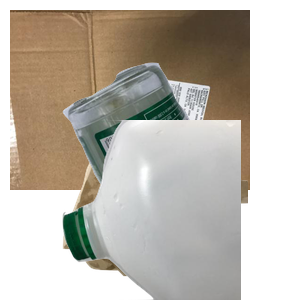cardboard: (10, 10, 250, 190)
glass: (60, 60, 300, 240)
plastic: (60, 120, 300, 300)
trash: (60, 142, 300, 300)
